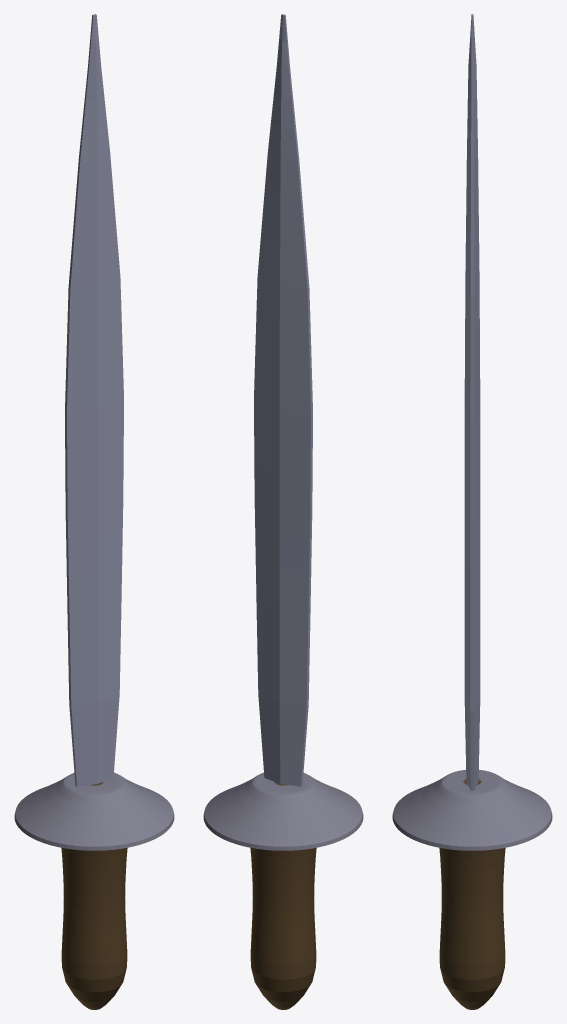
Rendered from LightSword.fbx.
3 views of the same model, side by side, from view 1: azimuth 30°, elevation 25°; view 2: azimuth 150°, elevation 25°; view 3: azimuth 270°, elevation 25° (orthographic).
Parts seen in each view (by area): view 1: Blade, Handle; view 2: Blade, Handle; view 3: Handle, Blade.
Boxes of the visible parts, x1,y1,x2,y2 form: Blade: [65, 14, 123, 786]; Handle: [14, 772, 174, 1009]; Blade: [254, 14, 312, 786]; Handle: [203, 772, 363, 1009]; Handle: [392, 770, 552, 1009]; Blade: [464, 14, 480, 790].
Bounding box in the file's own units: 19.78 × 135 × 19.78.
